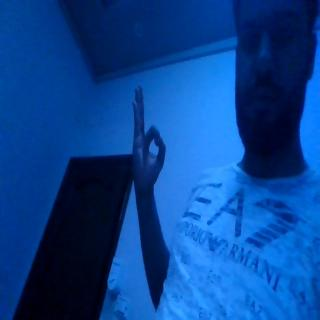Space: (116, 79, 170, 196)
